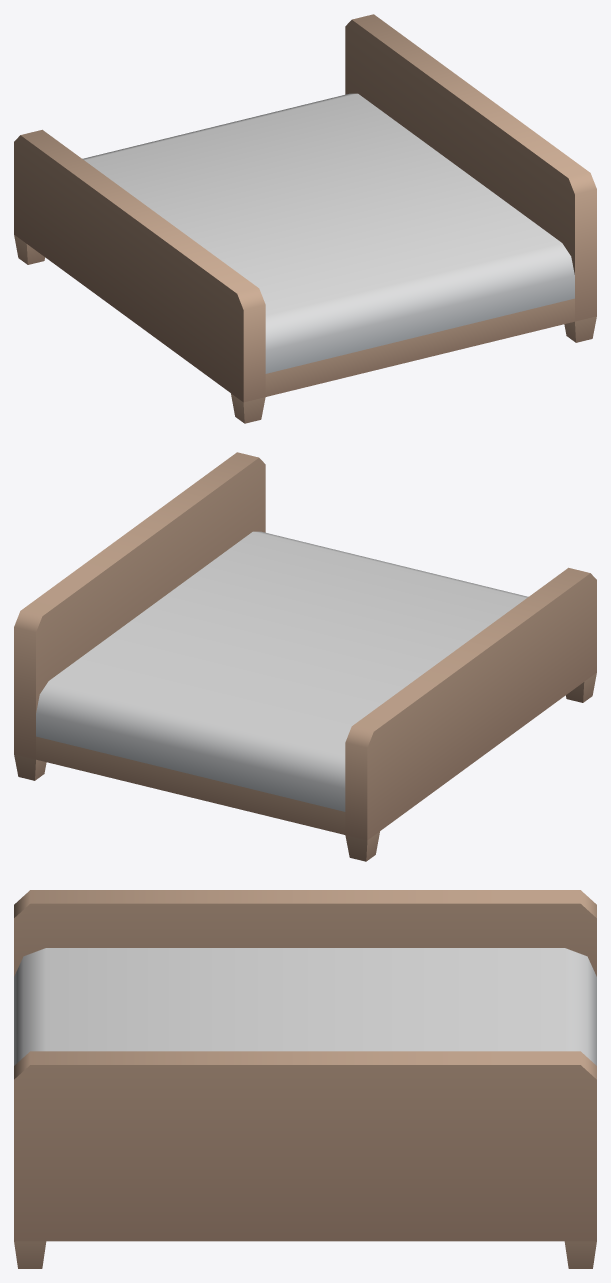
Rendered from bed-basic-double.glb.
The picture shows the model from 3 angles, top to bottom: view 1: azimuth 30°, elevation 25°; view 2: azimuth 150°, elevation 25°; view 3: azimuth 270°, elevation 25°; orthographic projection. The views are drawn at different scales.
Parts seen in each view (by area): view 1: bed-basic-double; view 2: bed-basic-double; view 3: bed-basic-double.
Boxes of the visible parts, left/top/right/bottom form: bed-basic-double: left=14, top=14, right=596, bottom=423; bed-basic-double: left=14, top=452, right=596, bottom=861; bed-basic-double: left=14, top=890, right=596, bottom=1268.
Bounding box in the file's own units: 1.6 × 0.7 × 1.8.
